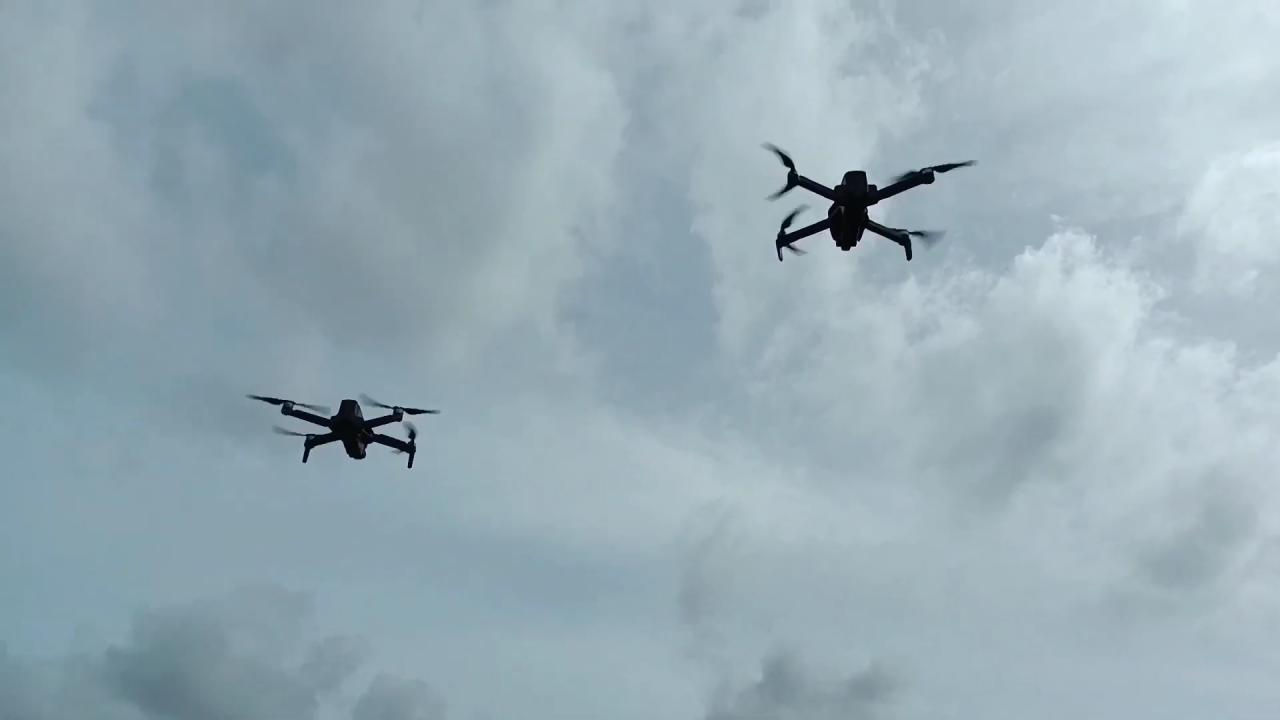Drone: (727, 130, 987, 277), (240, 378, 456, 478)
